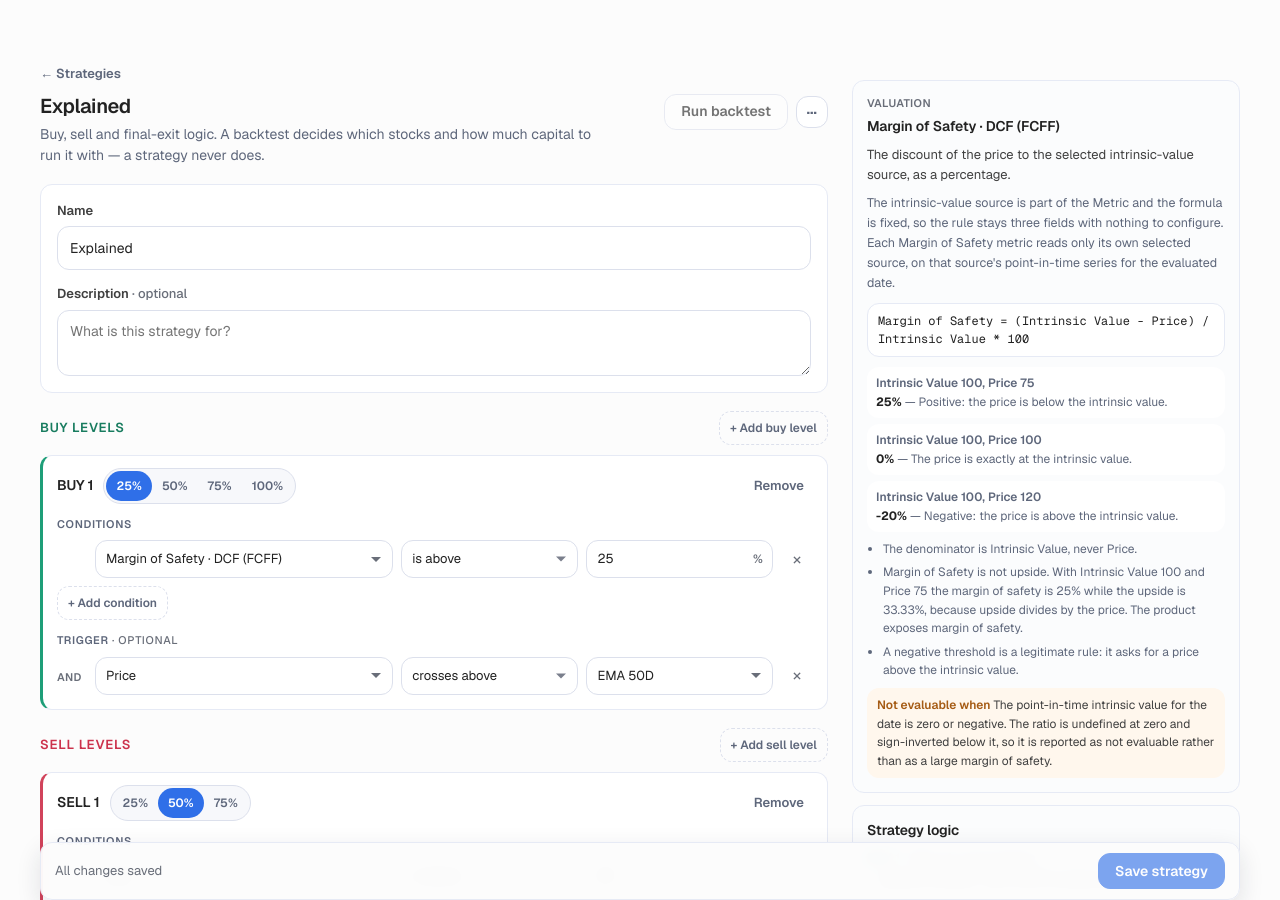
Test: explanation panel › follows the focused control
What coordinates should you click on to do the following:
click the 1st dropdown with test id "operator-select"
I would click on:
 (490, 559)
Its box is [401,540,578,578].
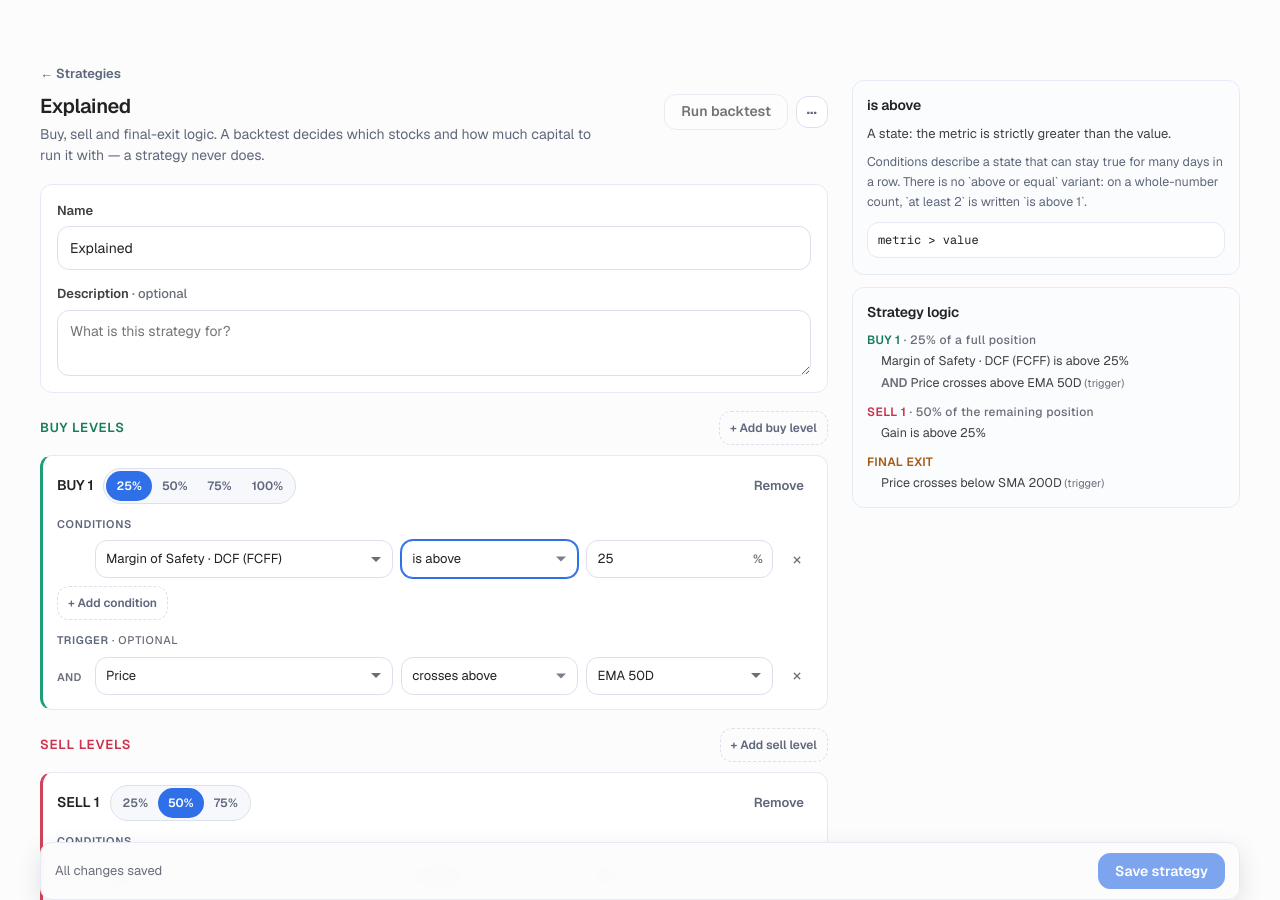
expect the heading "is above" is shown: met, box [867,96,921,114]
expect the element with test id "explanation-panel" shows "strictly greater than": met, box [867,125,1171,142]
